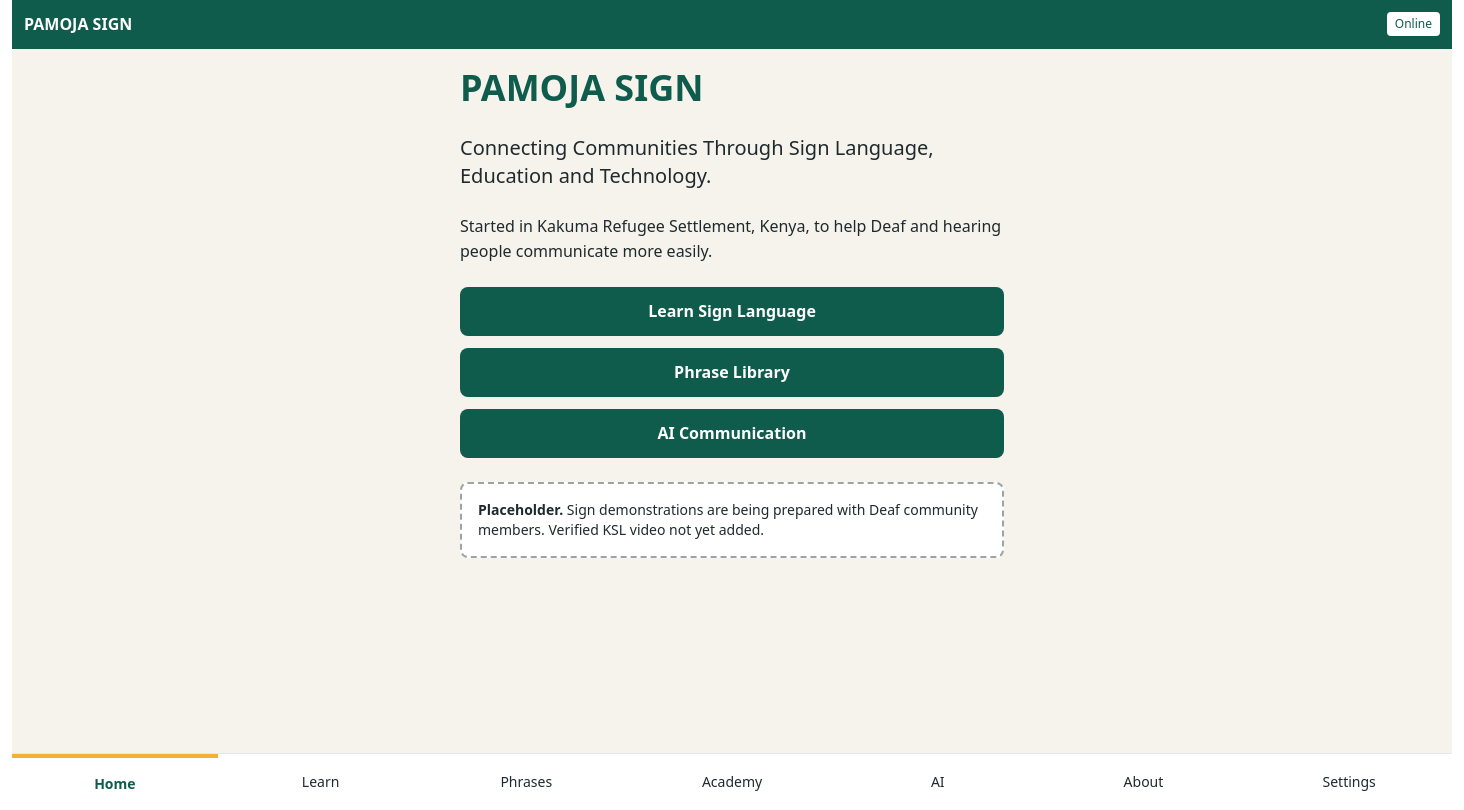
Test case: text-to-sign only matches library phrases and never fakes a sign
The width and height of the screenshot is (1464, 810).
Click the button with aria-label "AI Communication". click: x=938, y=782
box: top-left (835, 754), bottom-right (1041, 809)
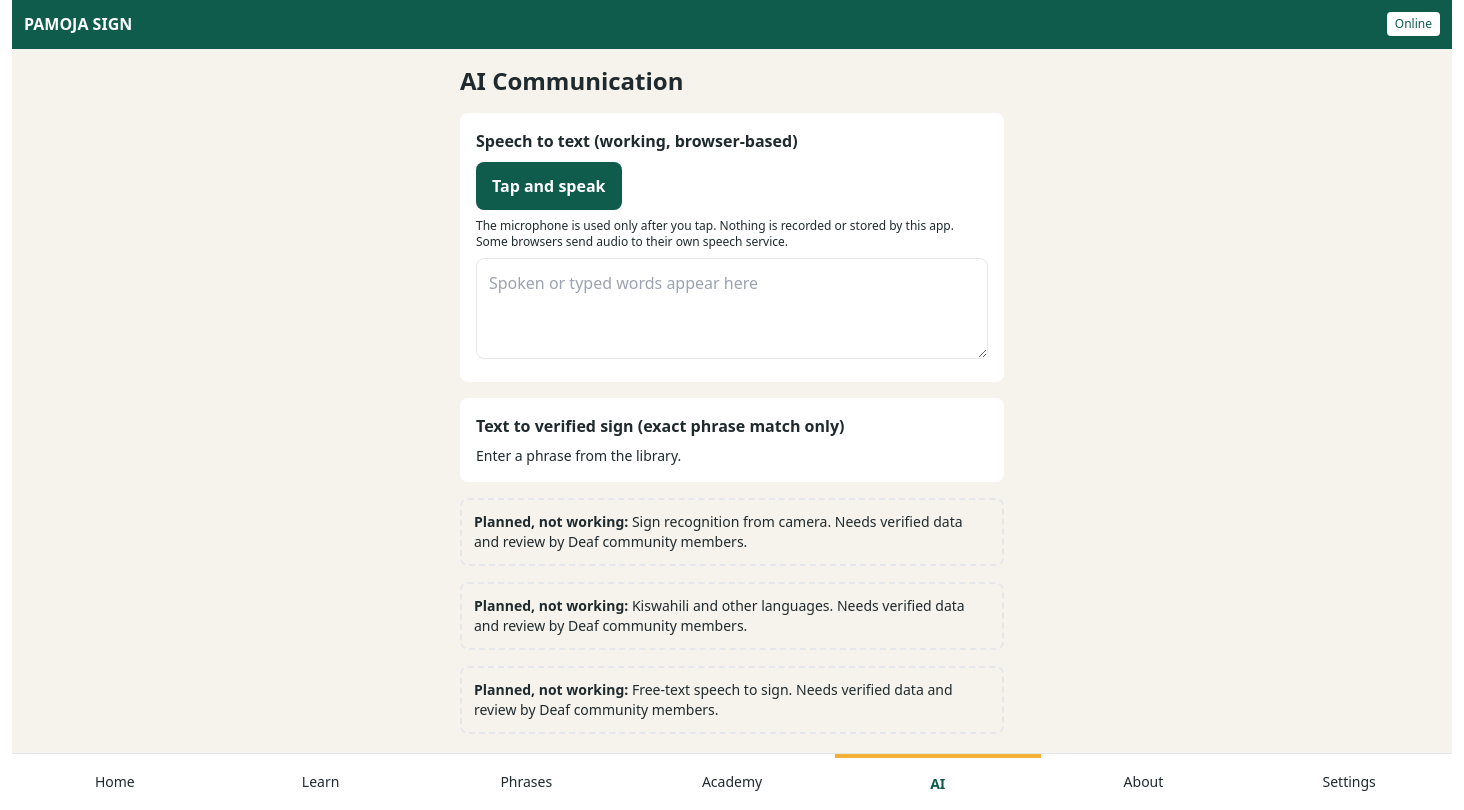
Type "thank you" into the text box named "Message". click: x=732, y=309
box: top-left (476, 258), bottom-right (988, 359)
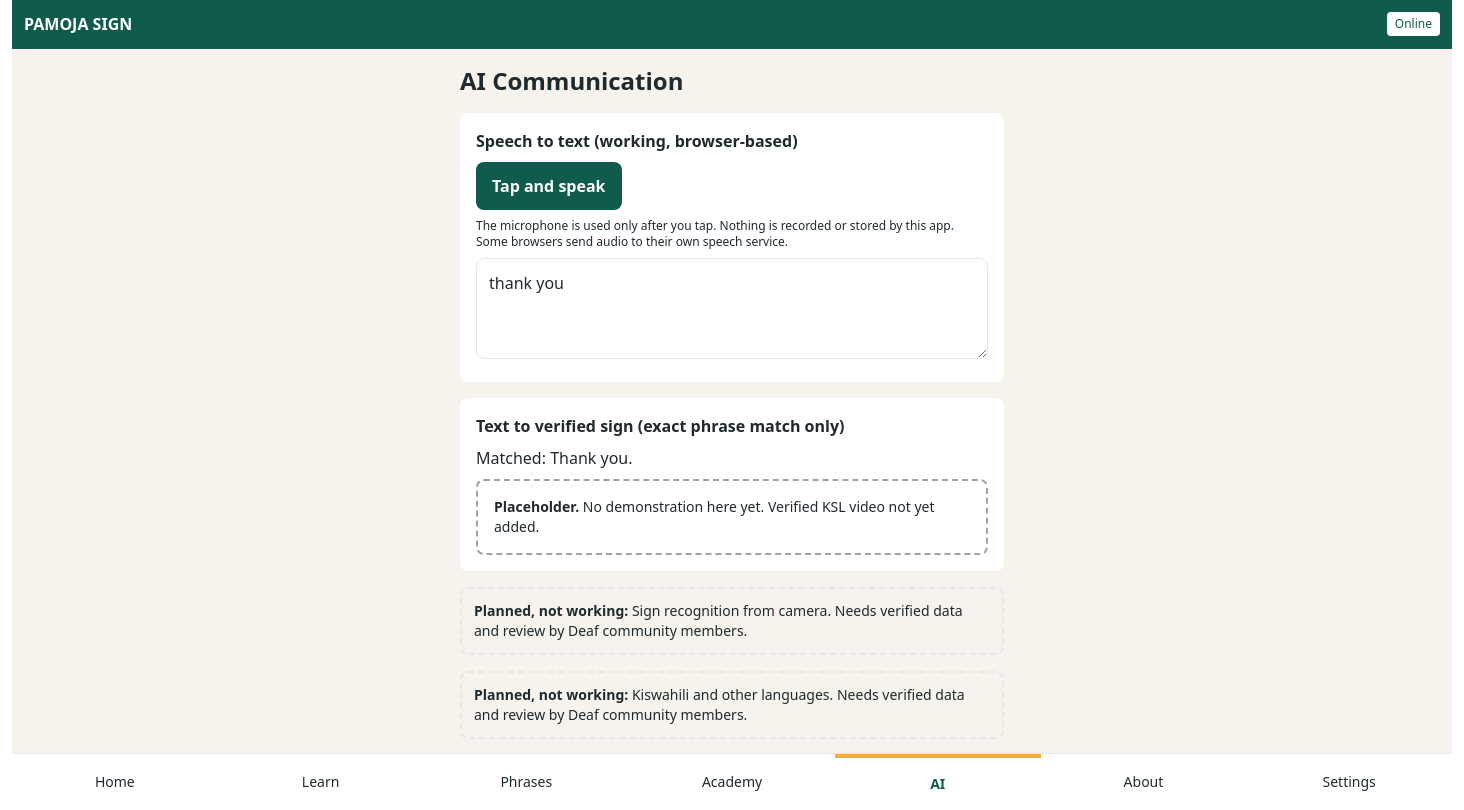
Expected: the text "Matched: Thank you." is shown, top-left (476, 447), bottom-right (632, 469)
Replace the text in the text box named "Message" with "good morning teacher". click: x=732, y=309
box: top-left (476, 258), bottom-right (988, 359)
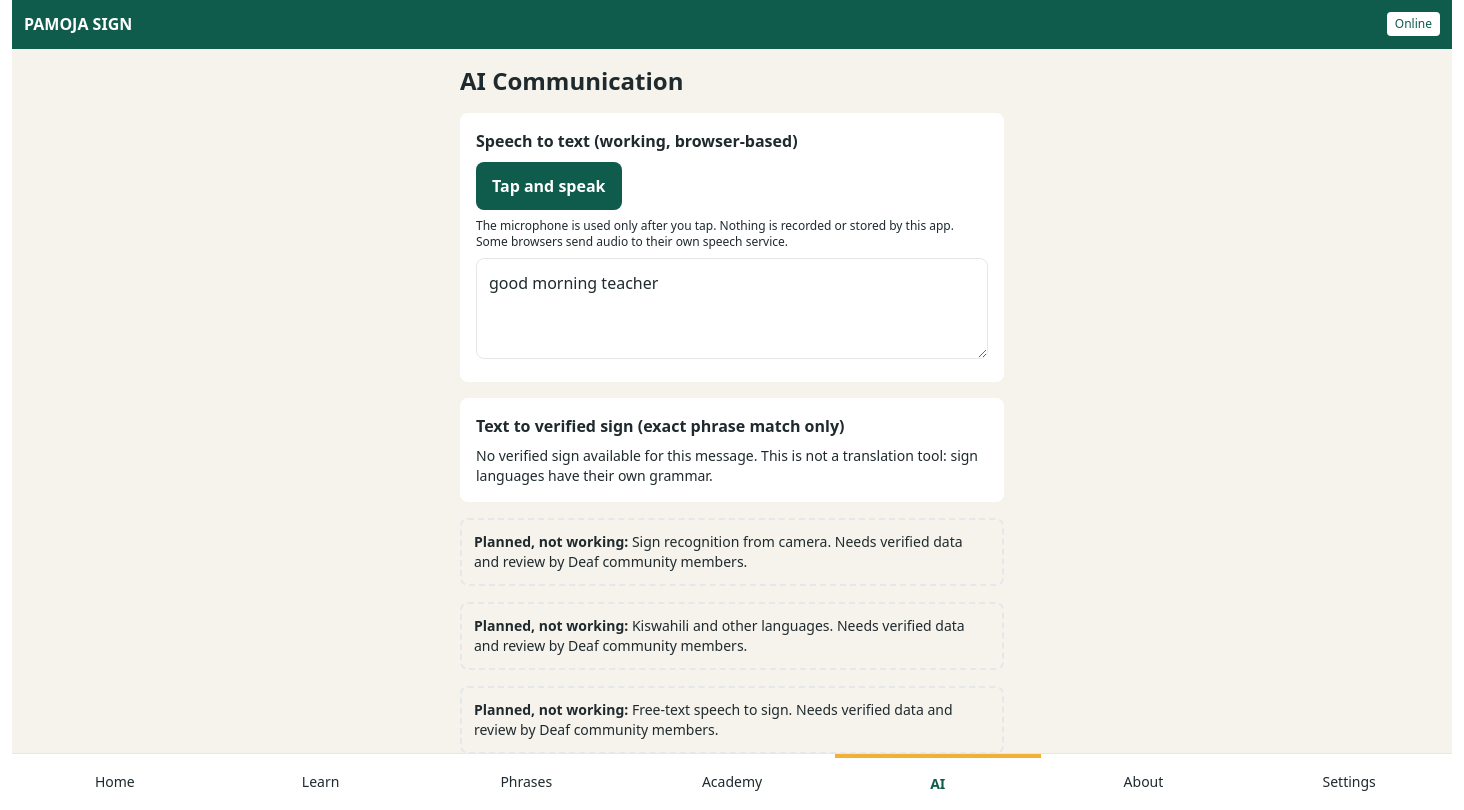
Expected: the text "No verified sign available" is shown, top-left (476, 446), bottom-right (978, 485)
